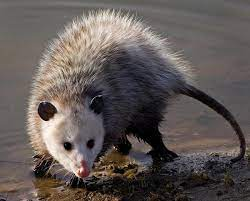opossum: (28, 12, 247, 178)
